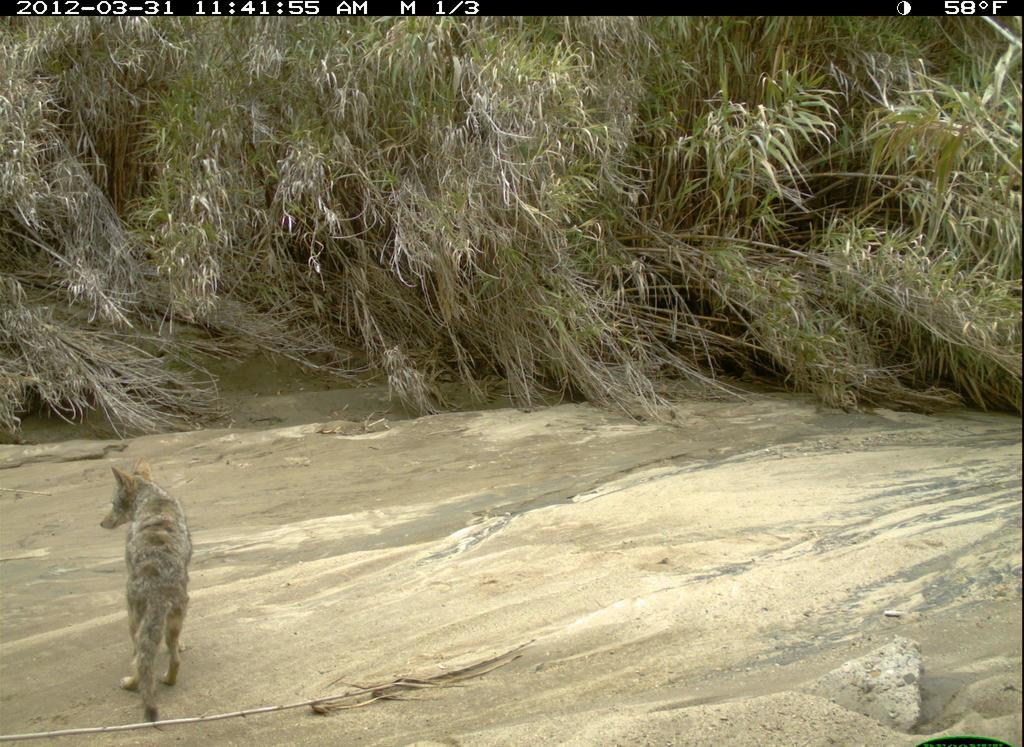coyote: (90, 459, 199, 734)
